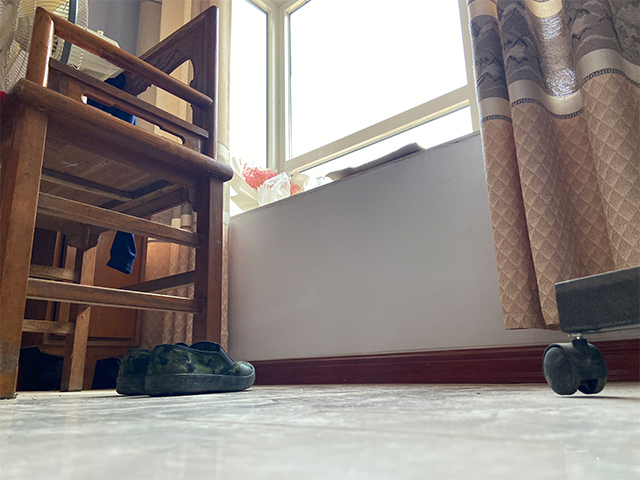curtain: (465, 1, 640, 334)
stool: (1, 5, 233, 400)
